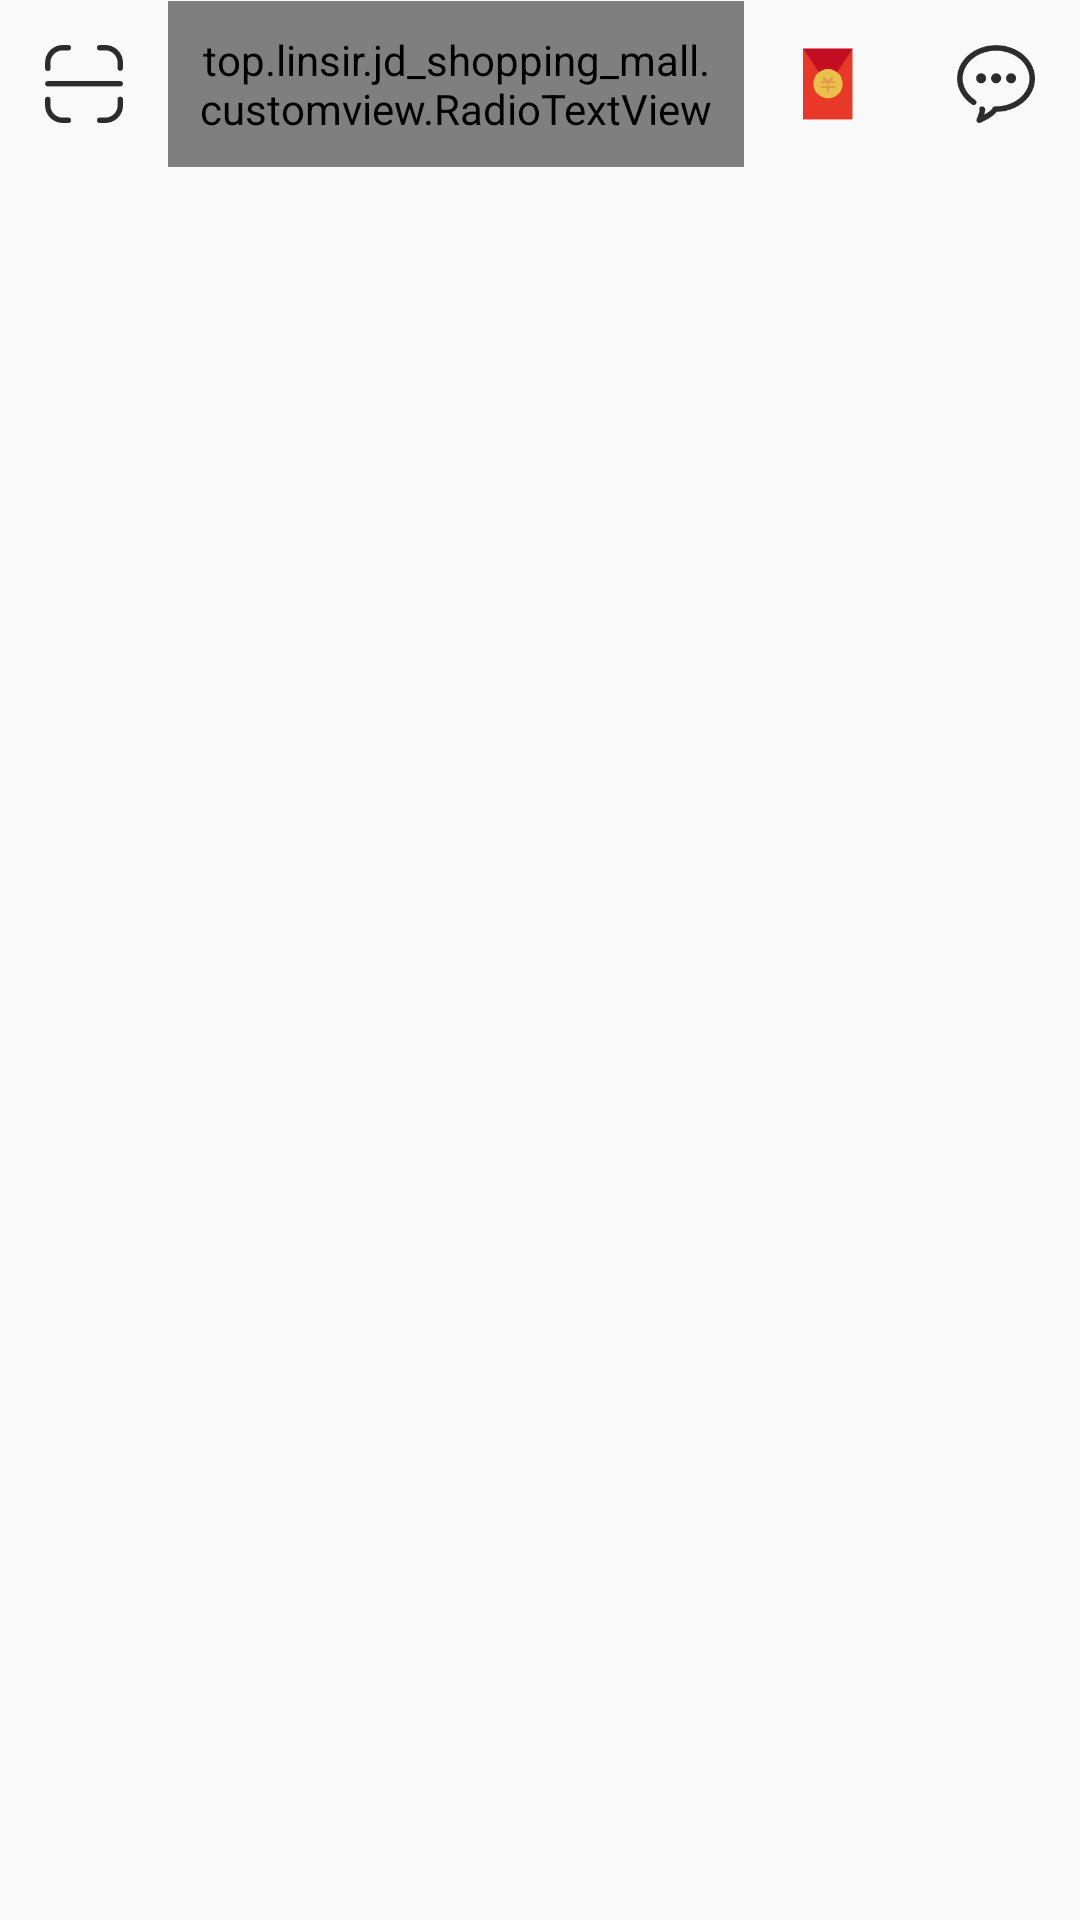

Icon click points for this 1080x1920 phone screenshot, format (x=x, y=y):
message: (x=996, y=84)
packet: (x=828, y=84)
scan: (x=84, y=84)
